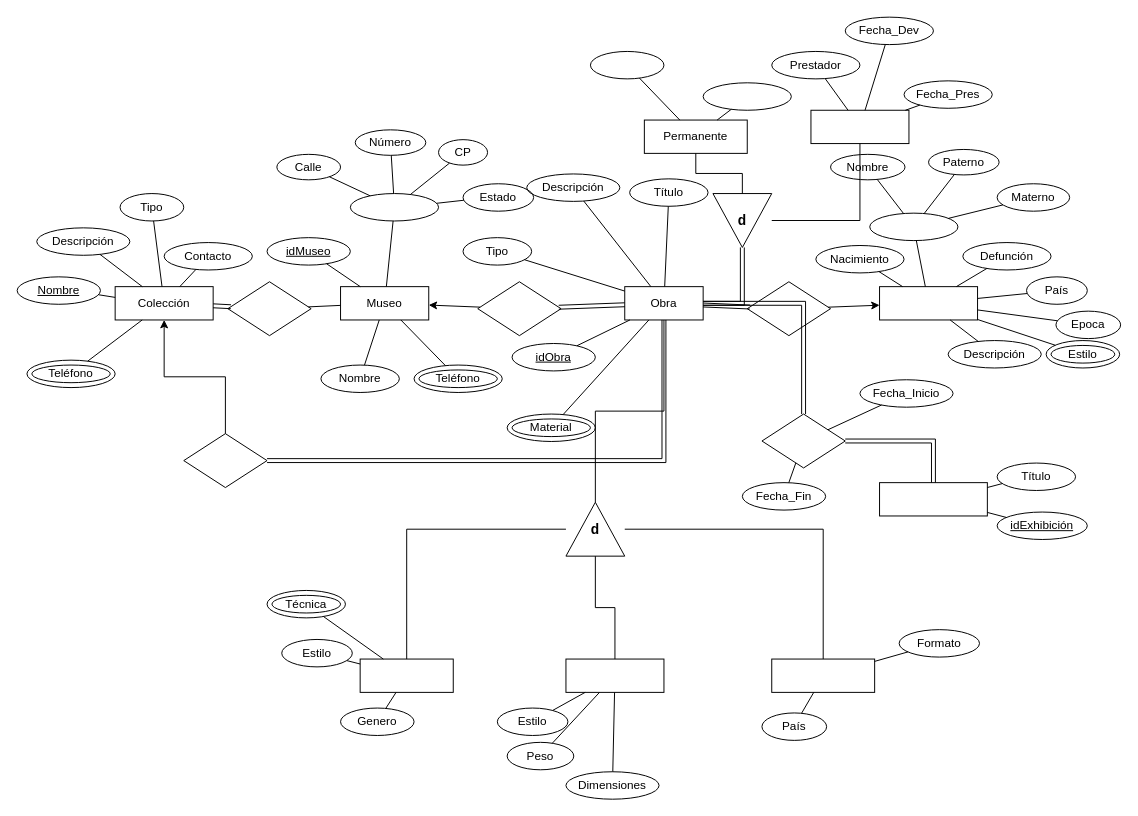
This 1138x816 diagram has some shape labels left out. Each missing label, with the centre of its shape:
Artista: the point at 928,303
Costo: the point at 626,64
Crear: the point at 788,308
Dirección: the point at 394,207
Escultura: the point at 614,675
Exhibición: the point at 933,499
Exhibir: the point at 803,440
Fecha_Adq: the point at 746,96
Interactuar: the point at 269,308
Miscelanea: the point at 823,675
NombreC: the point at 913,226
Pintura: the point at 406,675
Poseer: the point at 519,308
Prestada: the point at 859,126
Tener: the point at 225,460
